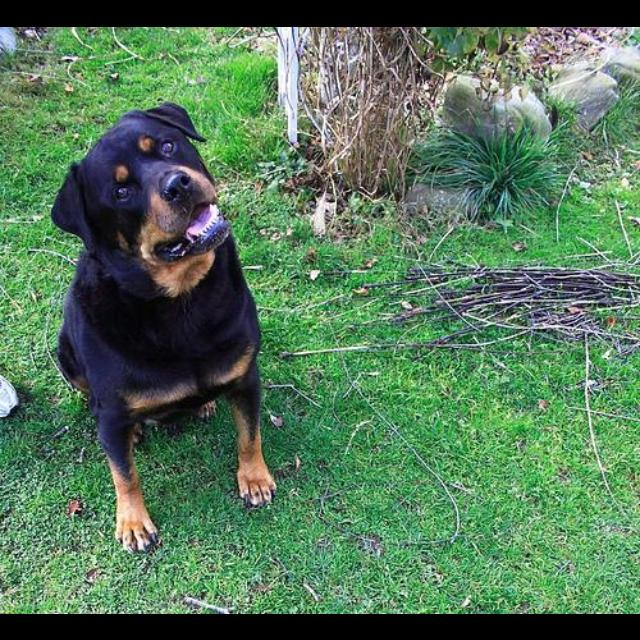rottweiler: (50, 100, 279, 554)
